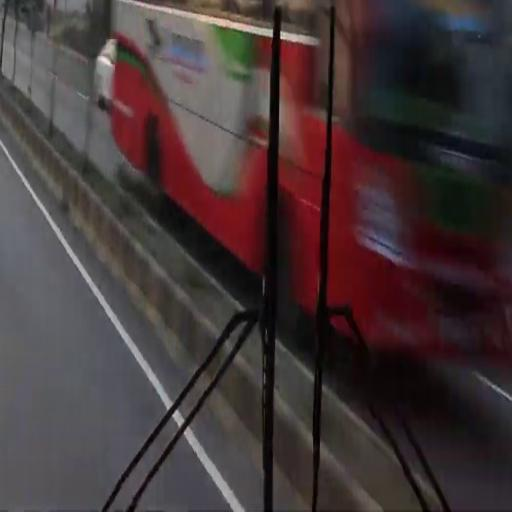bus: (115, 1, 512, 374)
car: (91, 36, 115, 112)
